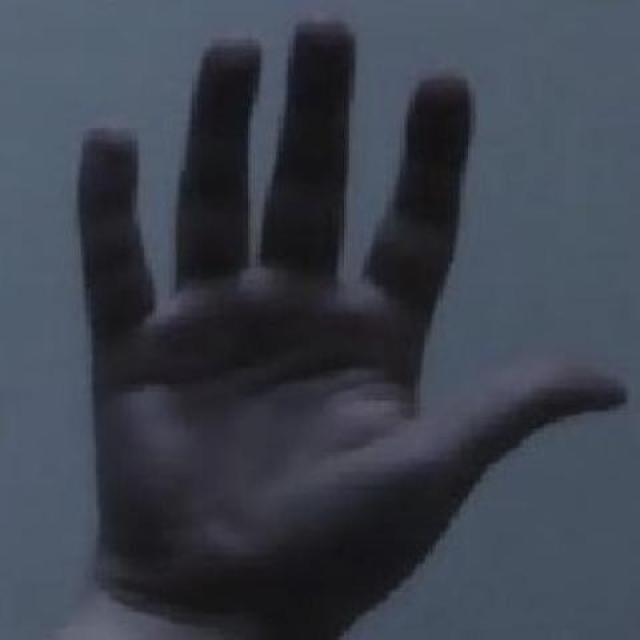Open Hand: (69, 8, 632, 640)
